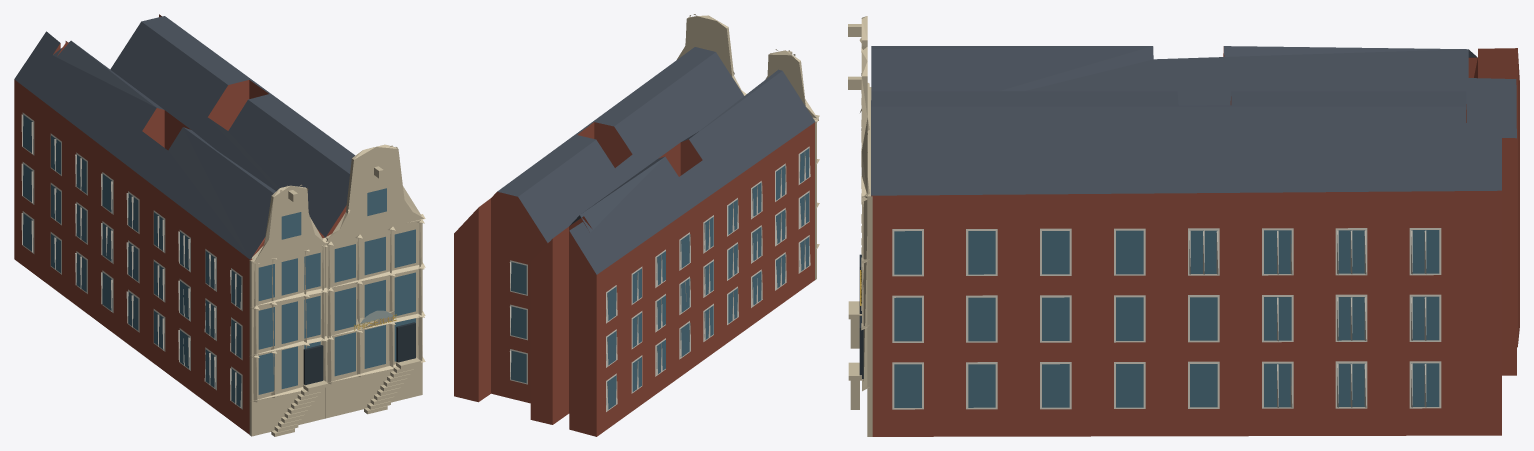
Rendered from huis-marseille.lod1.glb.
3 views of the same model, side by side, from view 1: azimuth 30°, elevation 25°; view 2: azimuth 150°, elevation 25°; view 3: azimuth 270°, elevation 25° (orthographic). The views are drawn at different scales.
Parts seen in each view (by area): view 1: huis-marseille; view 2: huis-marseille; view 3: huis-marseille.
Part boxes in pixels (bbox=[...]): huis-marseille: bbox=[14, 14, 425, 436]; huis-marseille: bbox=[454, 14, 819, 436]; huis-marseille: bbox=[848, 16, 1519, 436].
Bounding box in the file's own units: 13.33 × 19.18 × 32.89.
